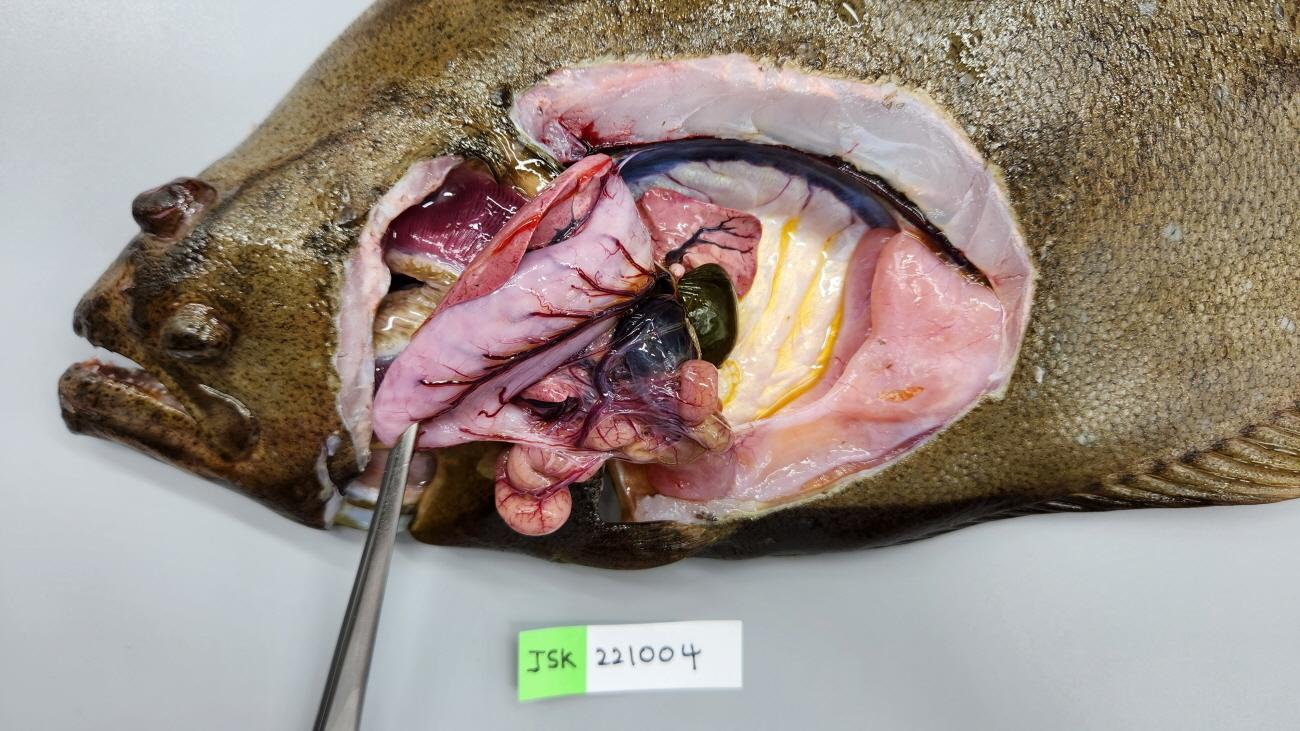POINN: (493, 360, 734, 536)
POSPN: (609, 295, 699, 377)
